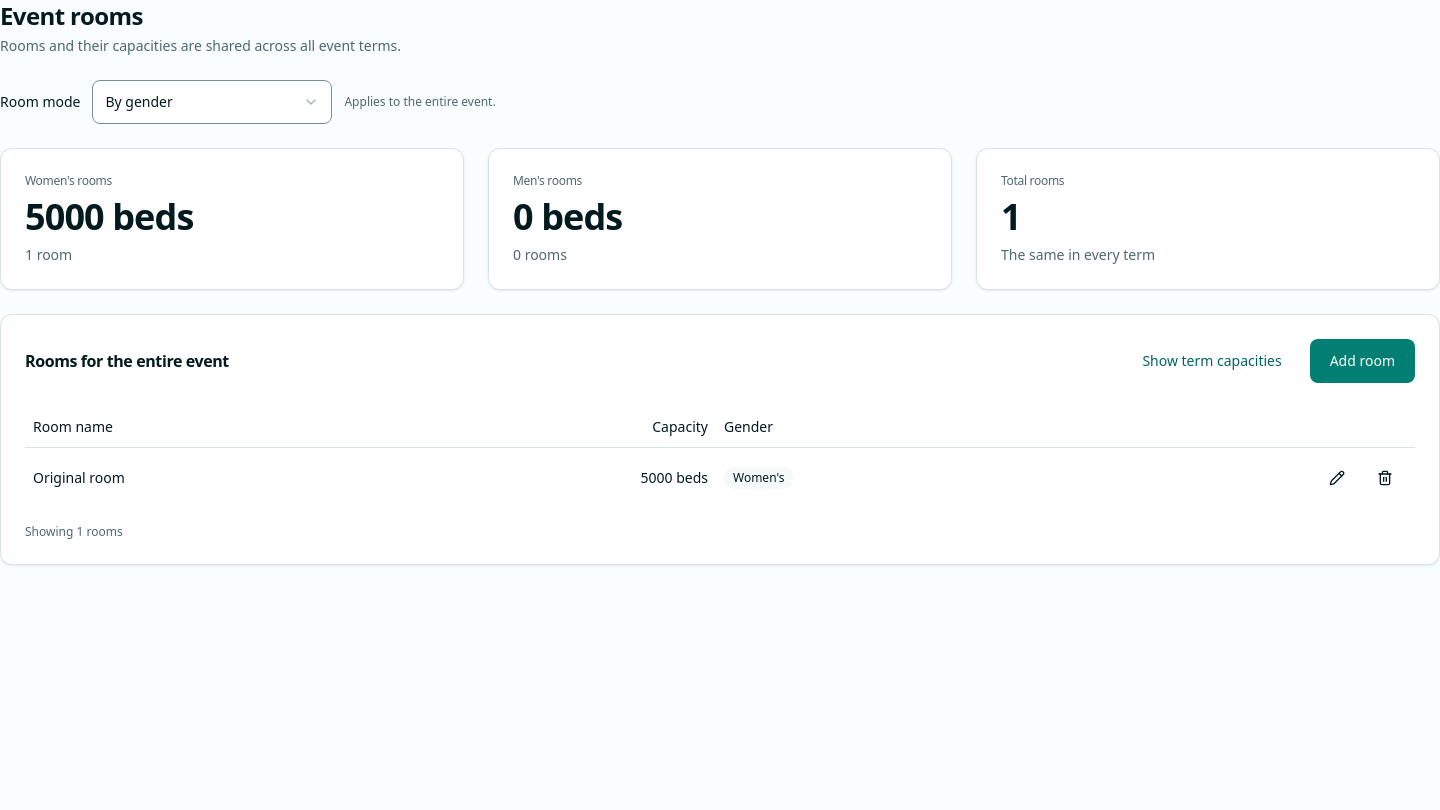
Test case: US-14 accommodation remains independent of US-26 › keeps reading and editing rooms available in GENDERED mode
The image size is (1440, 810).
Check: the text "Original room" is shown, box x1=25 y1=447 x2=414 y2=508
Check: the button "Add room" is enabled, box x1=1310 y1=339 x2=1415 y2=383
Click the button named "Edit room Original room": coordinates (1337, 478) x1=1315 y1=456 x2=1359 y2=500
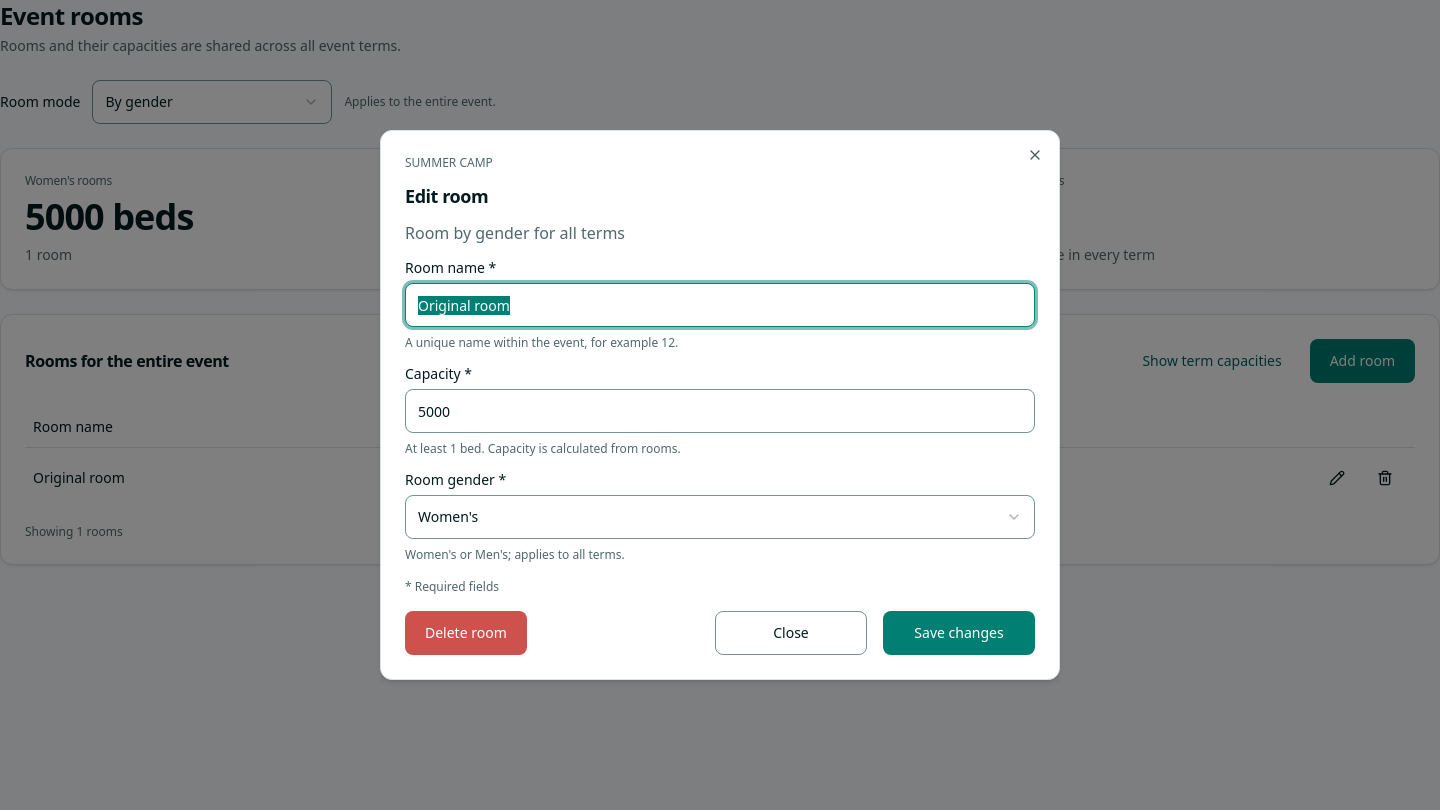
Check: the number field labelled "Capacity *" holds "5000", box x1=405 y1=389 x2=1035 y2=433
